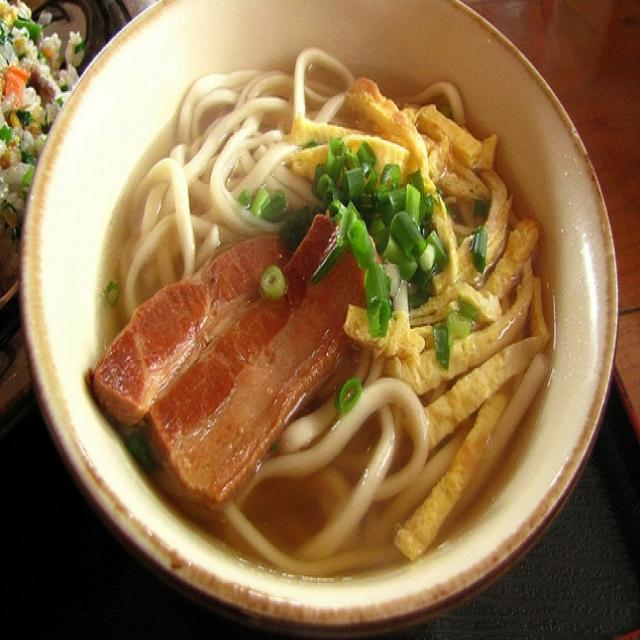汉堡快餐: (0, 35, 640, 611)
